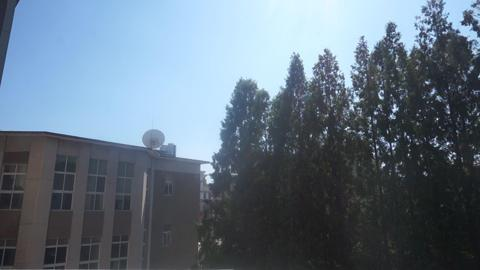UAV: (300, 92, 314, 100)
